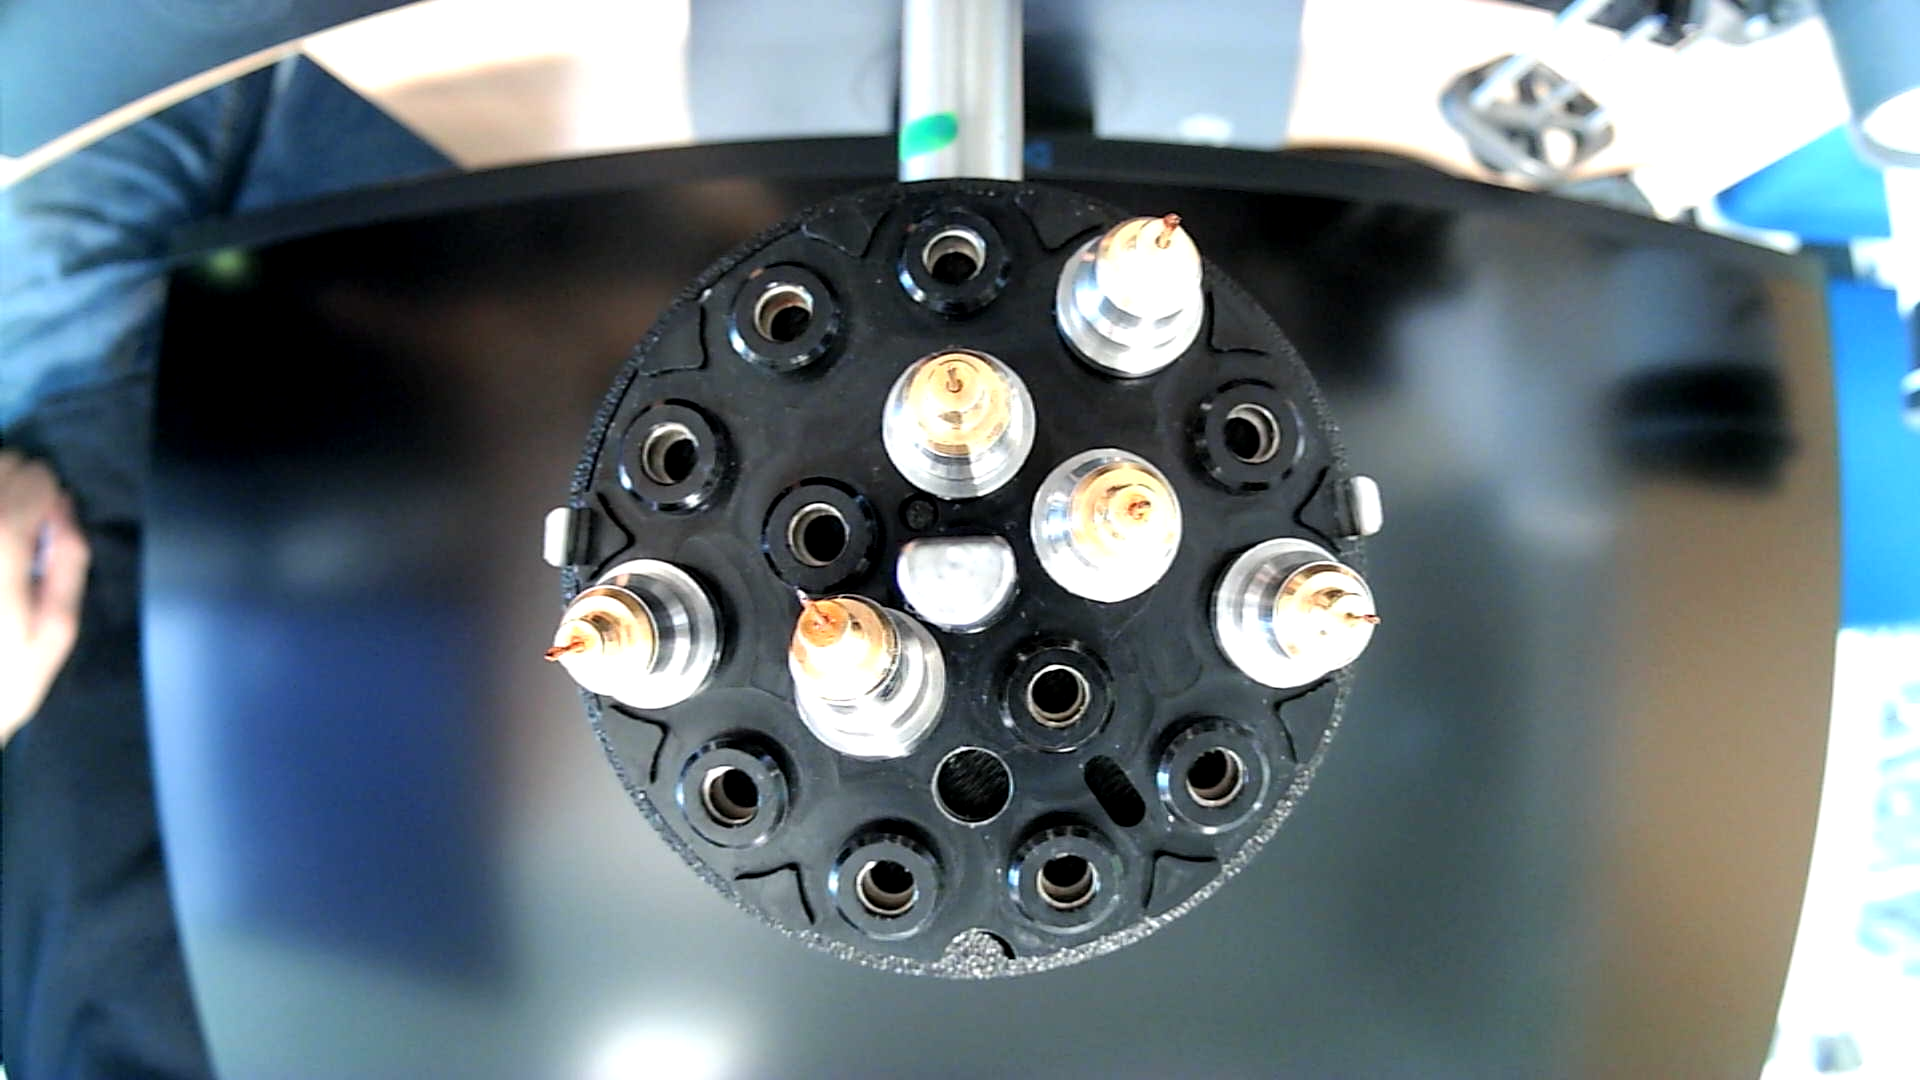empty: (673, 727, 812, 857), (615, 392, 745, 522), (720, 257, 855, 378), (1004, 818, 1130, 945), (1147, 712, 1276, 837), (827, 815, 949, 947), (1180, 375, 1308, 500), (760, 473, 885, 597), (894, 202, 1021, 320), (998, 634, 1120, 756)
hole: (930, 742, 1017, 828)
misplaced: (782, 583, 949, 765)
pin: (543, 555, 725, 715), (1209, 535, 1381, 692), (1054, 212, 1205, 384), (880, 347, 1038, 501), (1030, 448, 1184, 607)
rod: (887, 531, 1026, 638)
